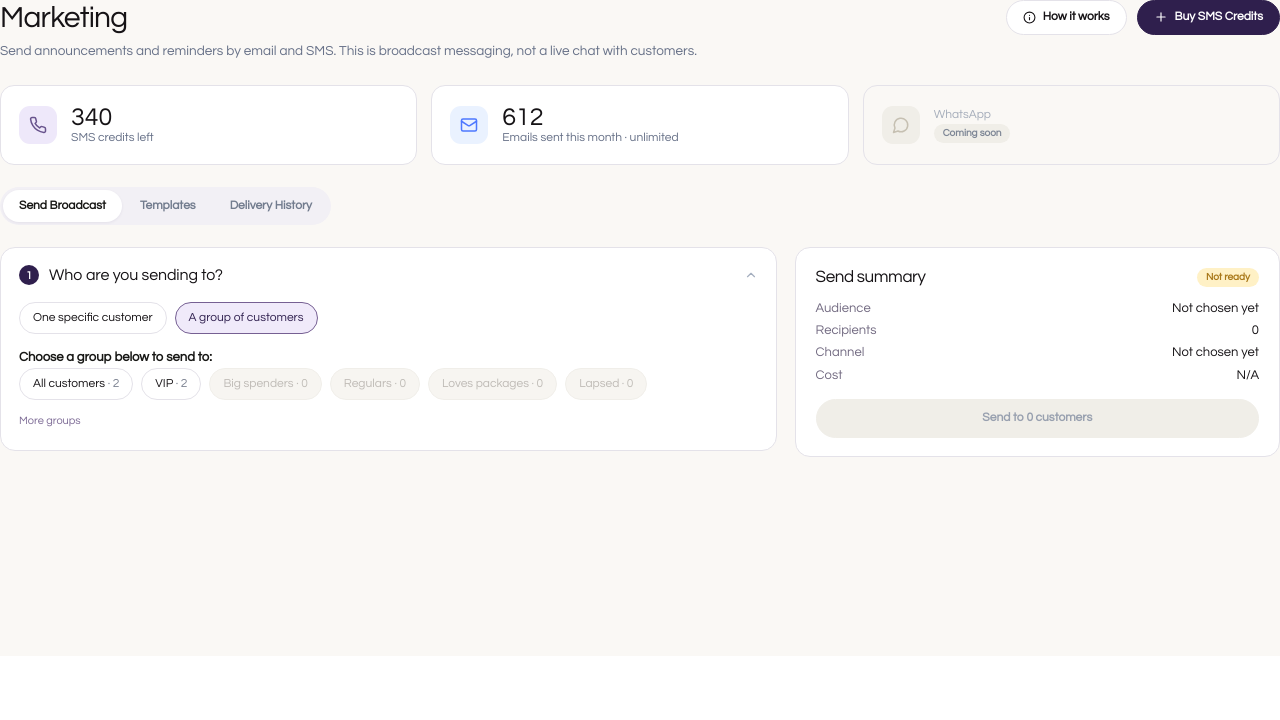
Scenario: Marketing broadcast flow › leaves both channels blank until the user explicitly picks a template
The image size is (1280, 720).
Click the button "VIP · 2". click: (171, 384)
box: [141, 368, 201, 400]
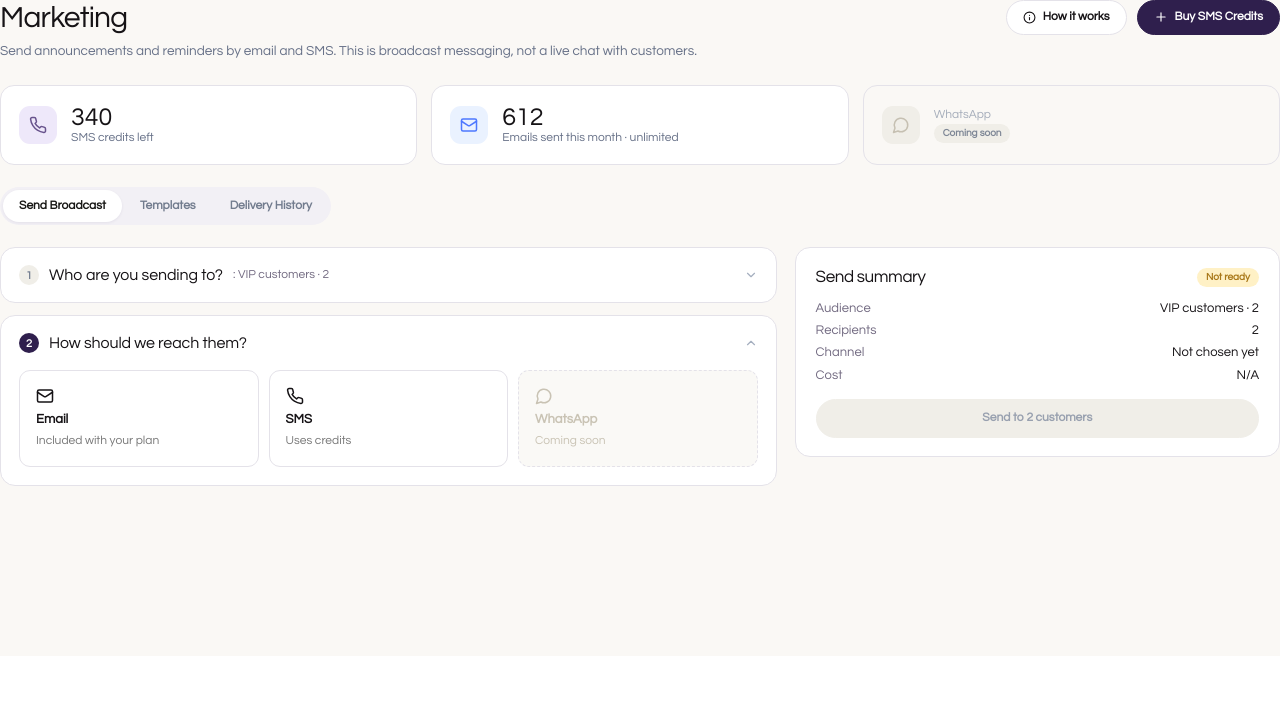
Click the button "Email Included with your plan". click: (139, 418)
box: [19, 370, 258, 467]
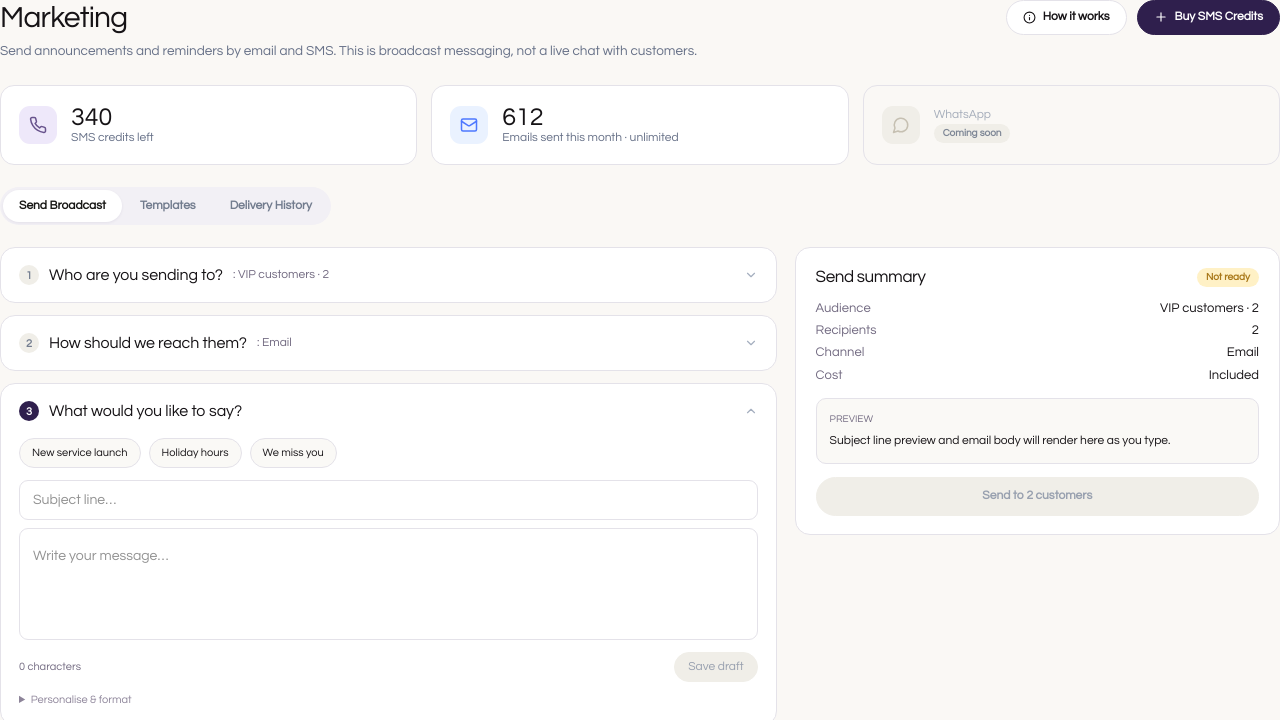
Expected: the button "Send to 2 customers" is disabled, [816, 477, 1259, 516]
Now the field named "Message" next to "Write your message…" is empty, box [19, 528, 758, 640]
Now the field named "Subject line" next to "Subject line…" is empty, box [19, 480, 758, 520]
Click the button "2 How should we reach them? : Email". click: (148, 343)
box: [1, 316, 776, 370]
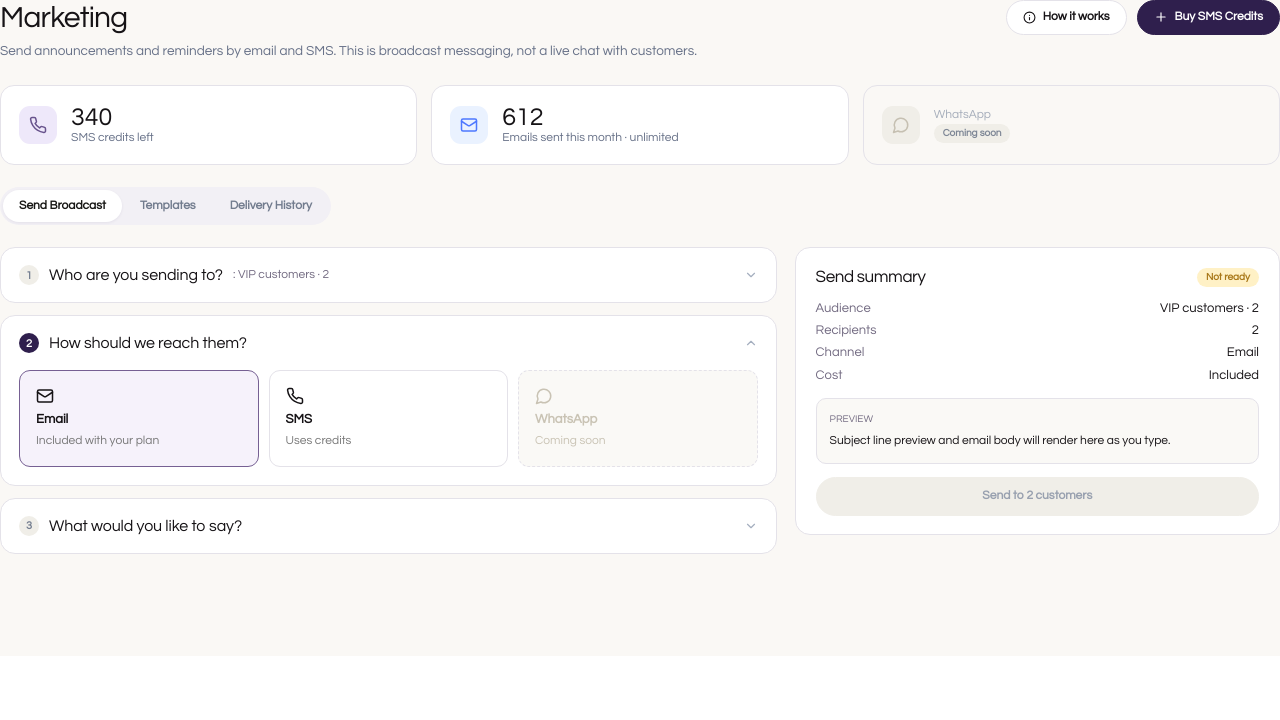
Click the button "SMS Uses credits". click: (388, 418)
box: [268, 370, 508, 467]
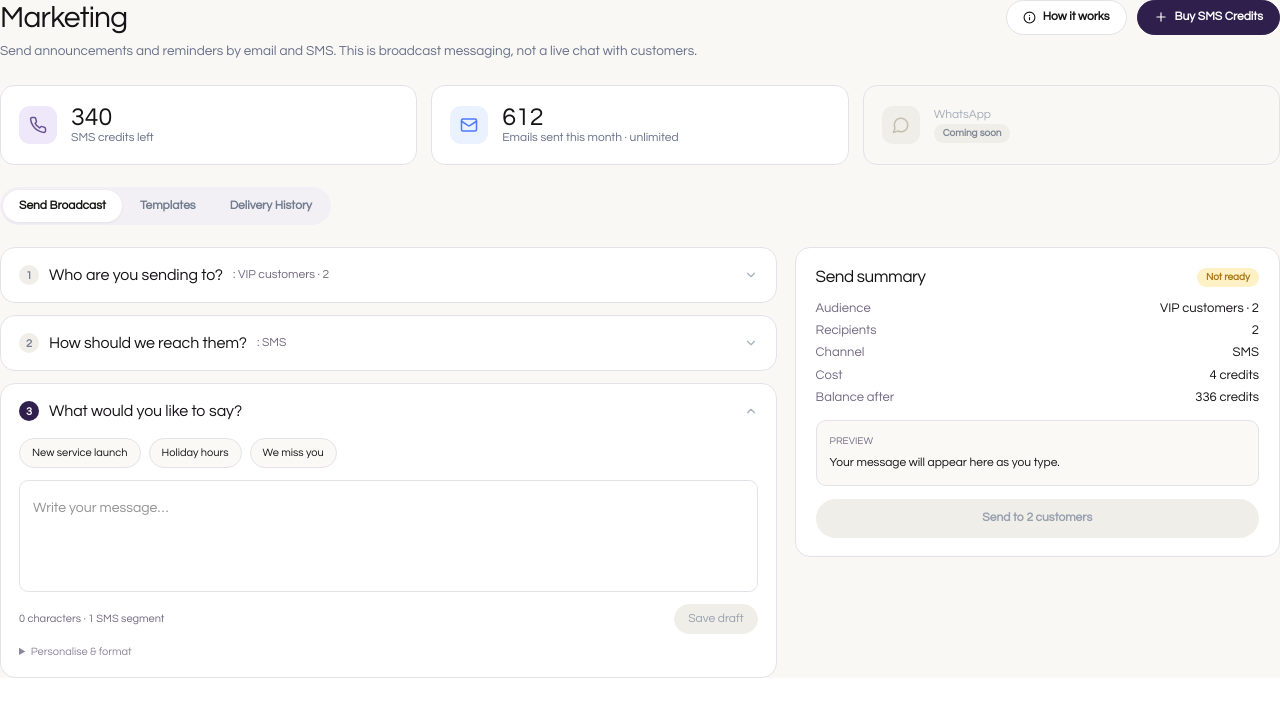
Now the field named "Message" is empty, box [19, 480, 758, 592]
Click the button "Holiday hours". click: (195, 453)
box: [148, 438, 242, 468]
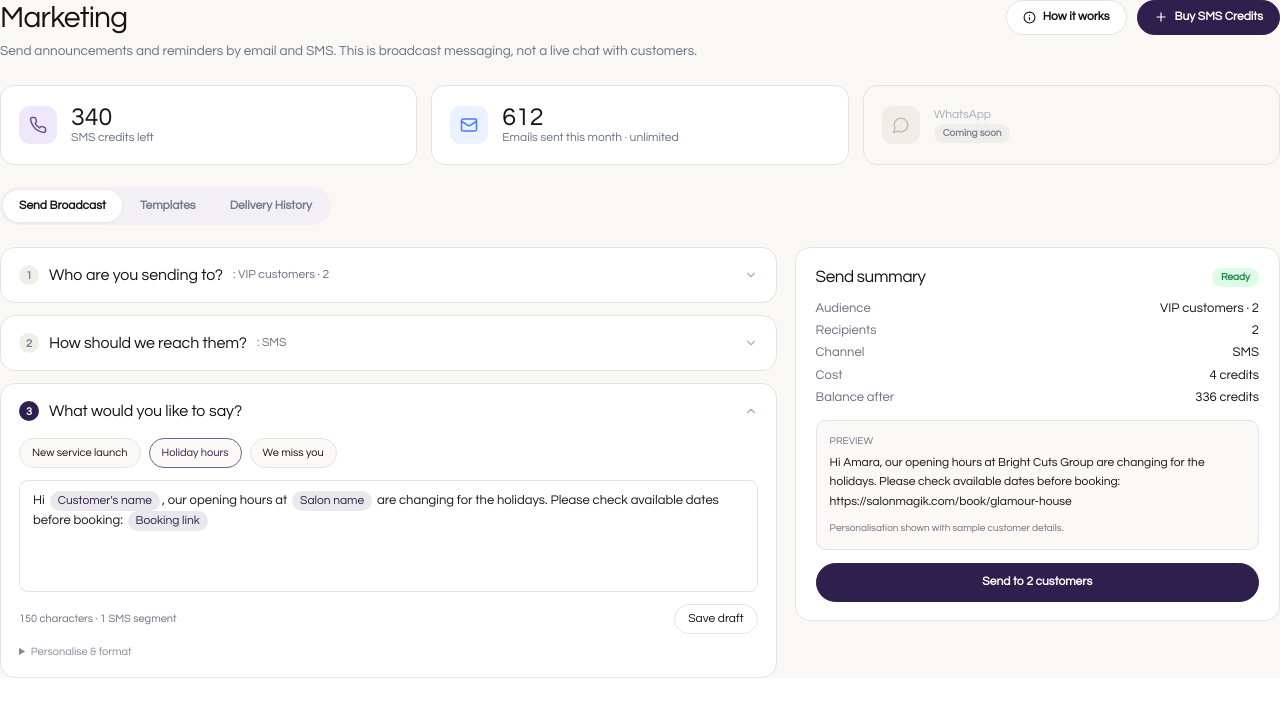
Now the field named "Message" shows "opening hours", box [19, 480, 758, 592]
